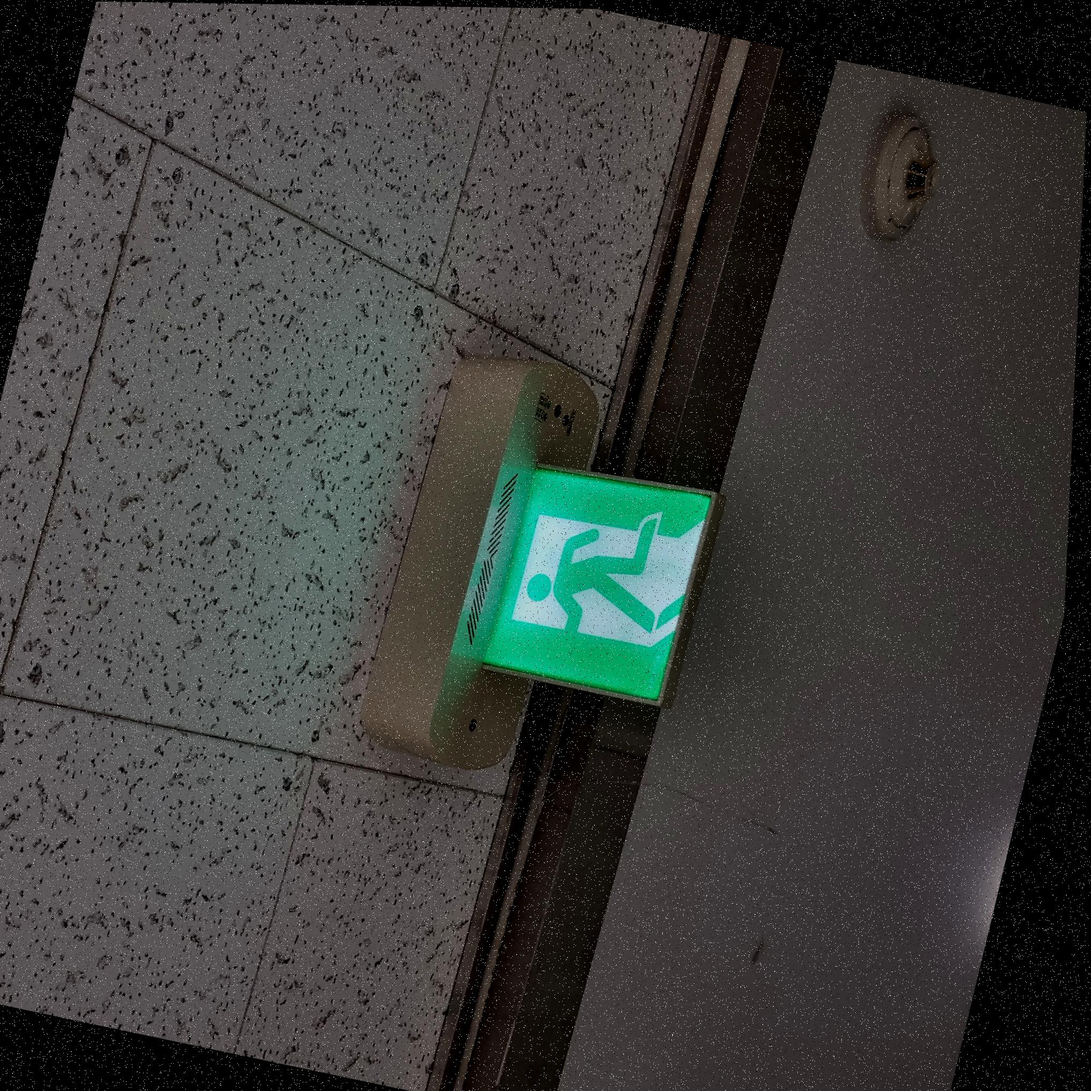emergency_exit: (471, 460, 721, 708)
